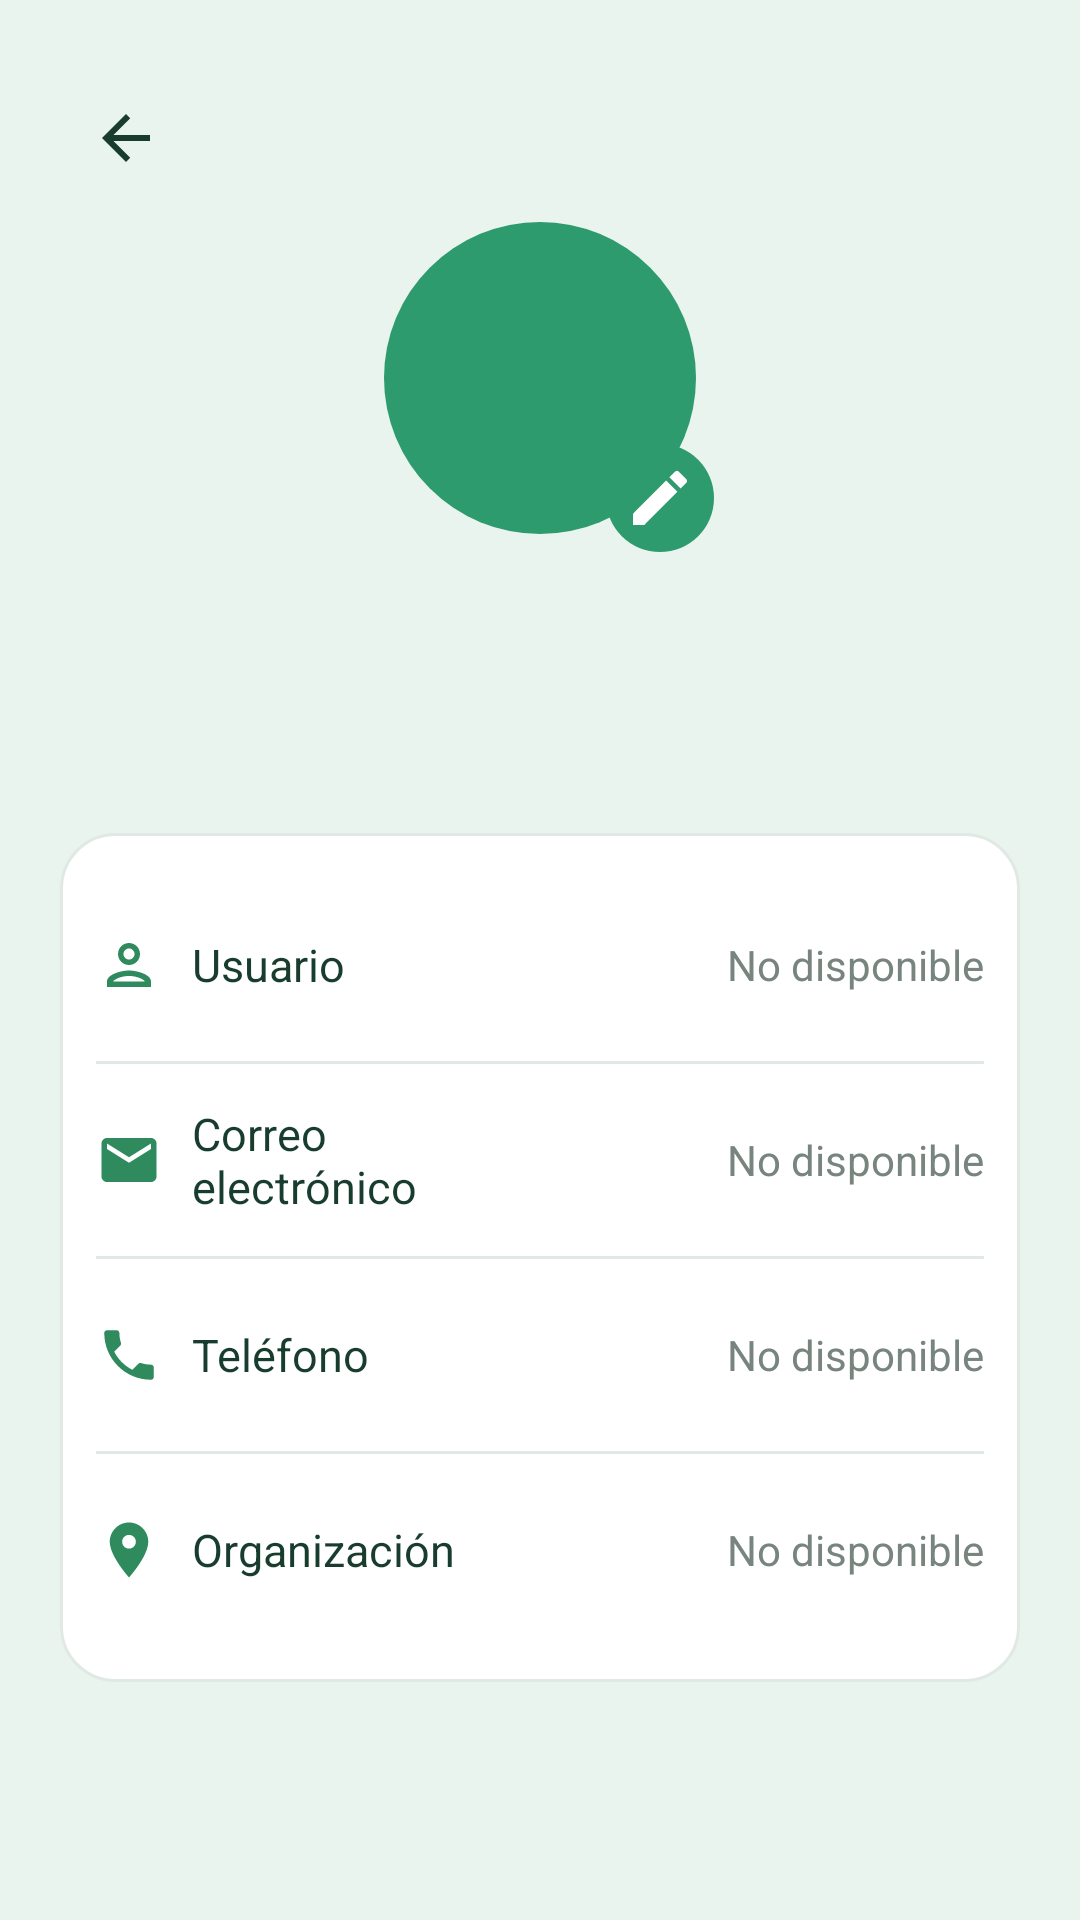

Where icons sit on this 1080w x 1920h app screen, as bbox=(x1, y1, x2, y2):
Editar foto de perfil: bbox=(606, 444, 714, 552)
email: bbox=(101, 1138, 157, 1182)
location on: bbox=(109, 1522, 149, 1577)
person: bbox=(107, 943, 151, 987)
phone: bbox=(104, 1330, 154, 1380)
Volver a configuración: bbox=(102, 114, 150, 162)
